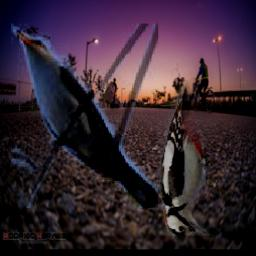Cuckoo: (11, 24, 158, 208)
Woodpecker: (160, 77, 216, 236)
